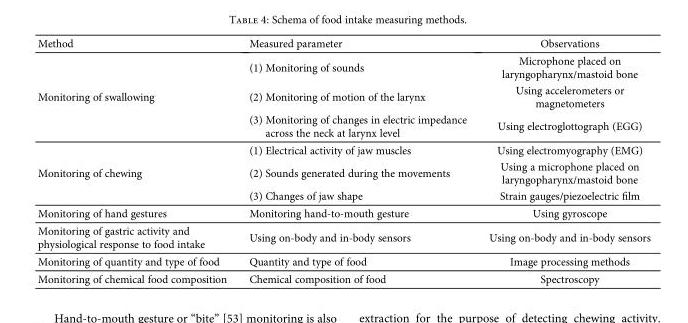table: (36, 36, 649, 284)
table column: (237, 36, 477, 284), (36, 36, 237, 284), (477, 36, 649, 284)
table column header: (36, 36, 649, 51)
table row: (36, 221, 649, 252), (36, 51, 649, 81), (36, 81, 649, 111), (36, 157, 649, 187), (36, 111, 649, 140), (36, 140, 649, 157), (36, 187, 649, 204), (36, 204, 649, 221), (36, 252, 649, 269), (36, 36, 649, 51), (36, 269, 649, 284)
table spanning cell: (36, 51, 237, 140), (36, 140, 237, 204)
